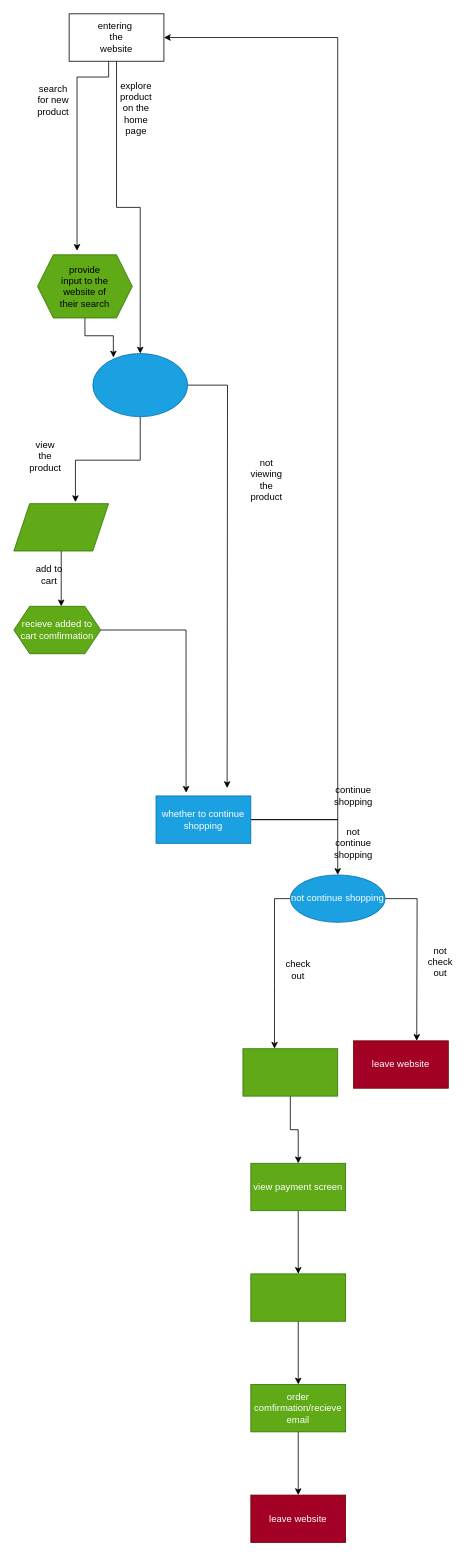
Some shapes in this 470 by 1556 pixel diagram are drawn without their labels. Here are the shapes that lost their labels. From the top down, the centre of each, then its label:
At point 140,385: "begin looking over the product".
At point 61,527: "product webpage open".
At point 290,1072: "search view chart screen".
At point 298,1297: "input payment information".
